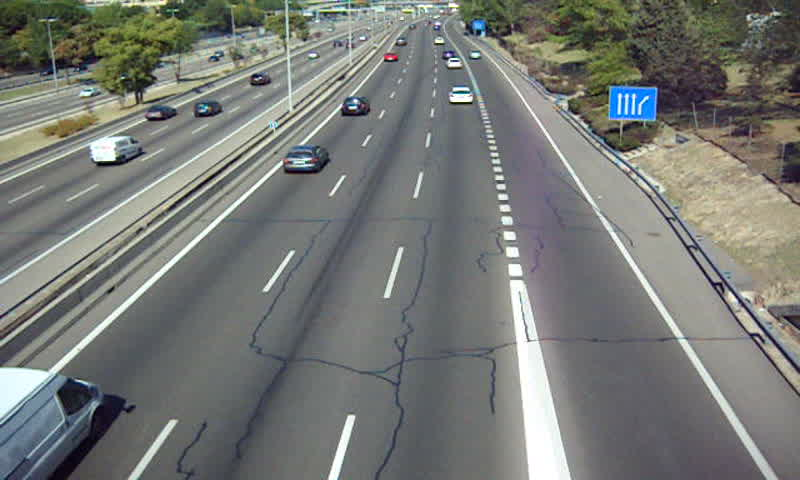car: (282, 145, 328, 173), (340, 96, 368, 117), (447, 86, 475, 105), (445, 57, 465, 70), (382, 52, 400, 63)
